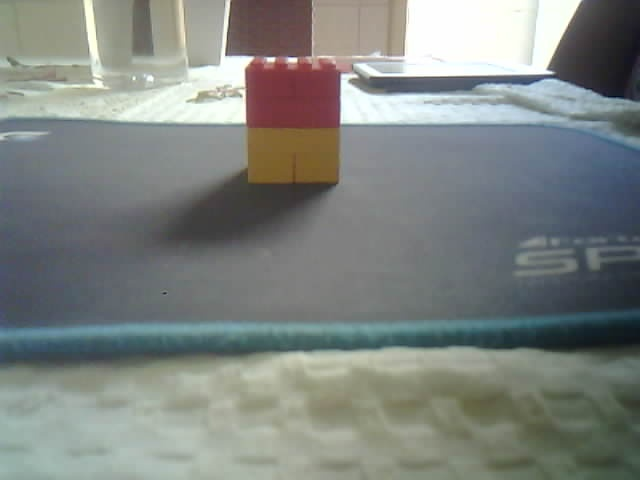lego: (244, 57, 342, 187)
